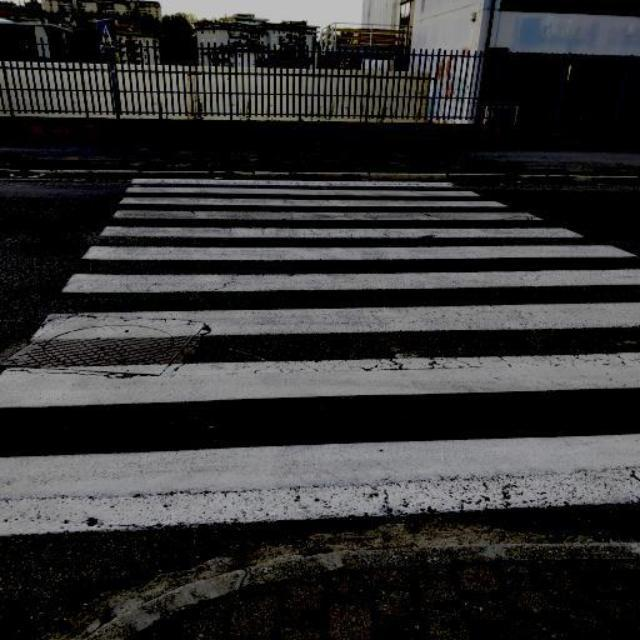sidewalk: (0, 170, 640, 531)
